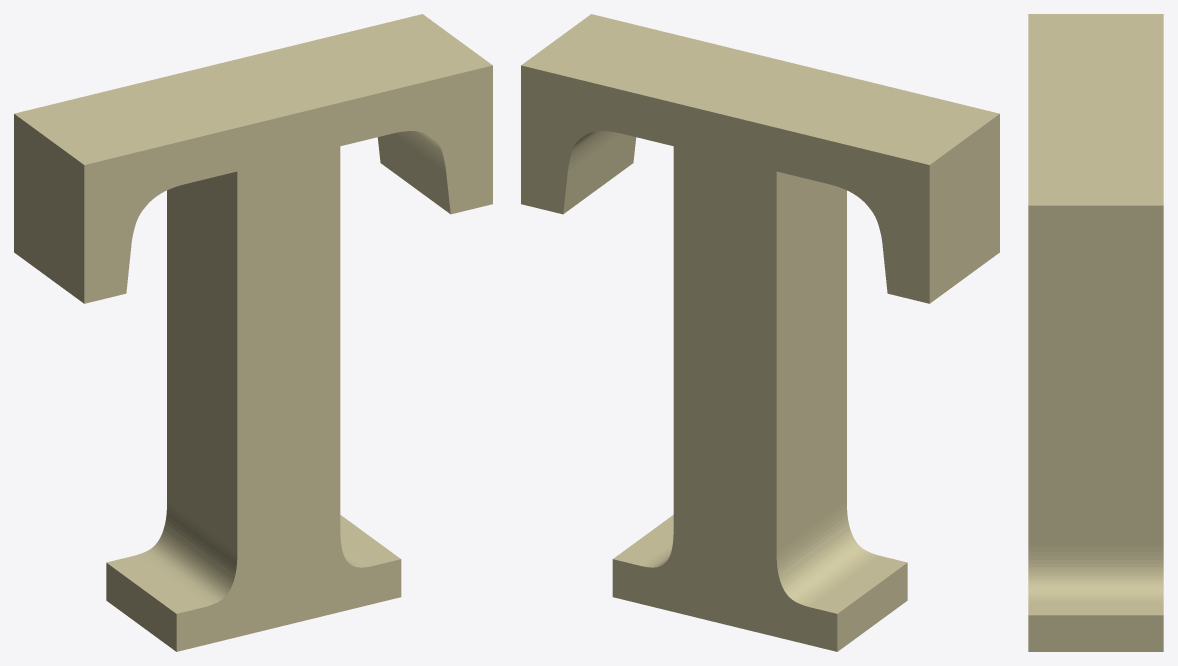
3 renders of one model, left to right at view 1: azimuth 30°, elevation 25°; view 2: azimuth 150°, elevation 25°; view 3: azimuth 270°, elevation 25°, orthographic. The views are drawn at different scales.
Visible parts, largest first — view 1: Mesh_Mesh_head_geo.001_lambert2SG.001; view 2: Mesh_Mesh_head_geo.001_lambert2SG.001; view 3: Mesh_Mesh_head_geo.001_lambert2SG.001.
Boxes of the visible parts, x1,y1,x2,y2 form: Mesh_Mesh_head_geo.001_lambert2SG.001: (14,14,492,651); Mesh_Mesh_head_geo.001_lambert2SG.001: (521,14,999,651); Mesh_Mesh_head_geo.001_lambert2SG.001: (1028,14,1163,651).
Bounding box in the file's own units: 13.43 × 16 × 4.
